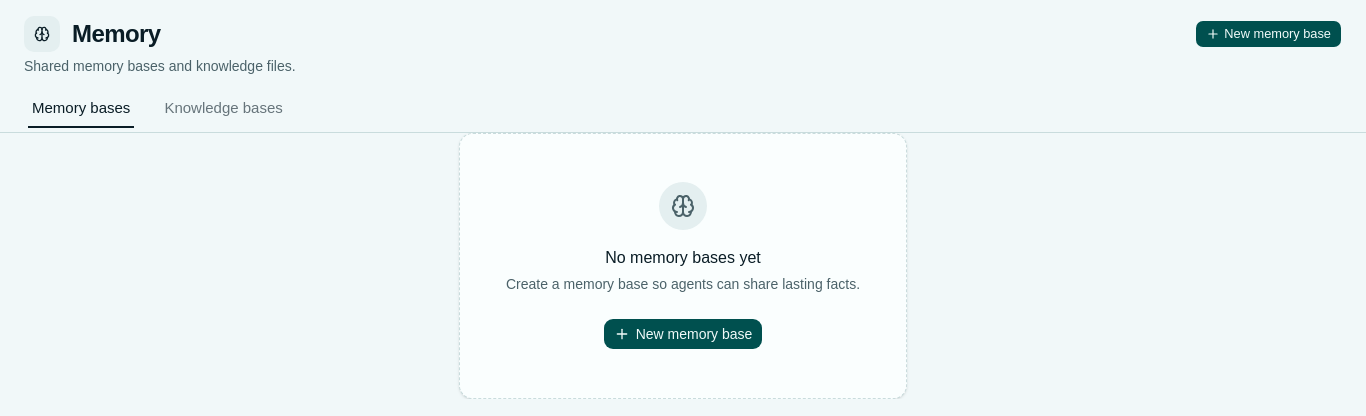
MemoryPage › shows empty CTAs when there are no bases
Expected: the heading "No memory bases yet" is shown, [605,246,761,270]
Expected: the 1st button "New memory base" is shown, [1195,20,1342,48]
Click the tab "Knowledge bases".
click(224, 108)  # box [159,87,288,129]
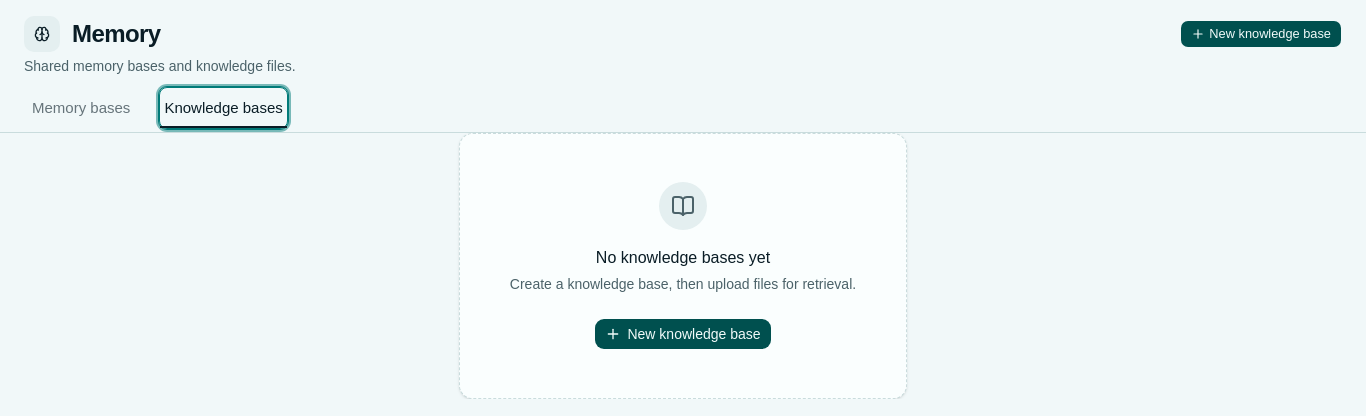
Expected: the heading "No knowledge bases yet" is shown, [596,246,770,270]
Expected: the 1st button "New knowledge base" is shown, [1180,20,1342,48]
